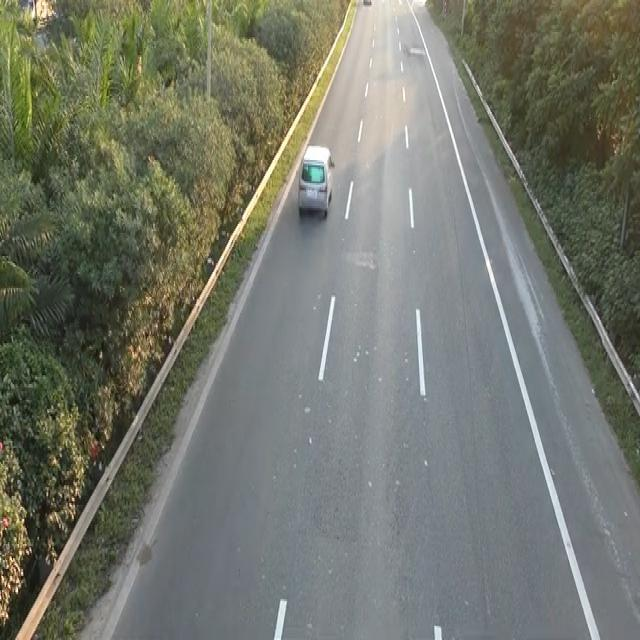lorry: (296, 140, 336, 220)
